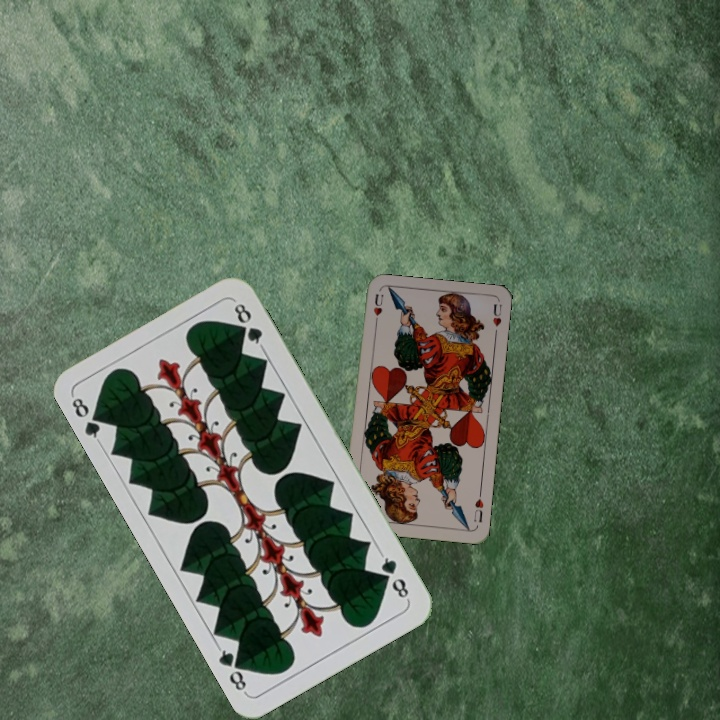G8: (67, 392, 108, 446), (376, 549, 412, 603)
HU: (369, 290, 386, 329), (470, 487, 486, 525)
